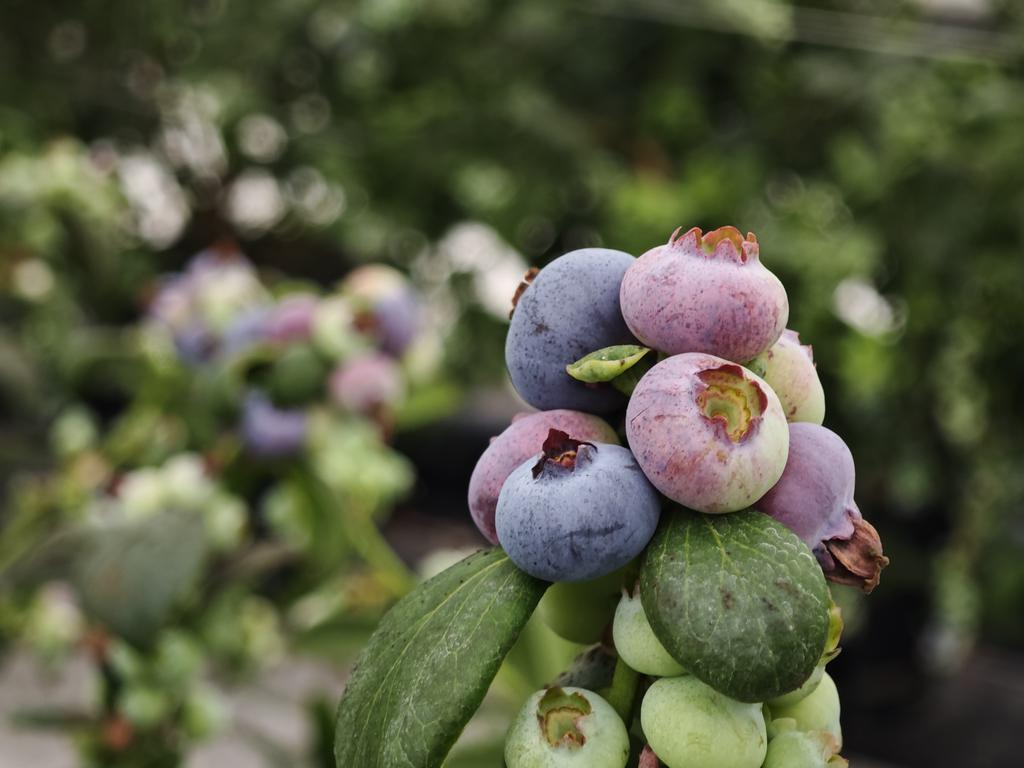RipeBlueBerry: (493, 242, 642, 410), (493, 439, 649, 579)
Semi-RipeBlueBerry: (626, 352, 787, 513), (622, 228, 791, 362)
